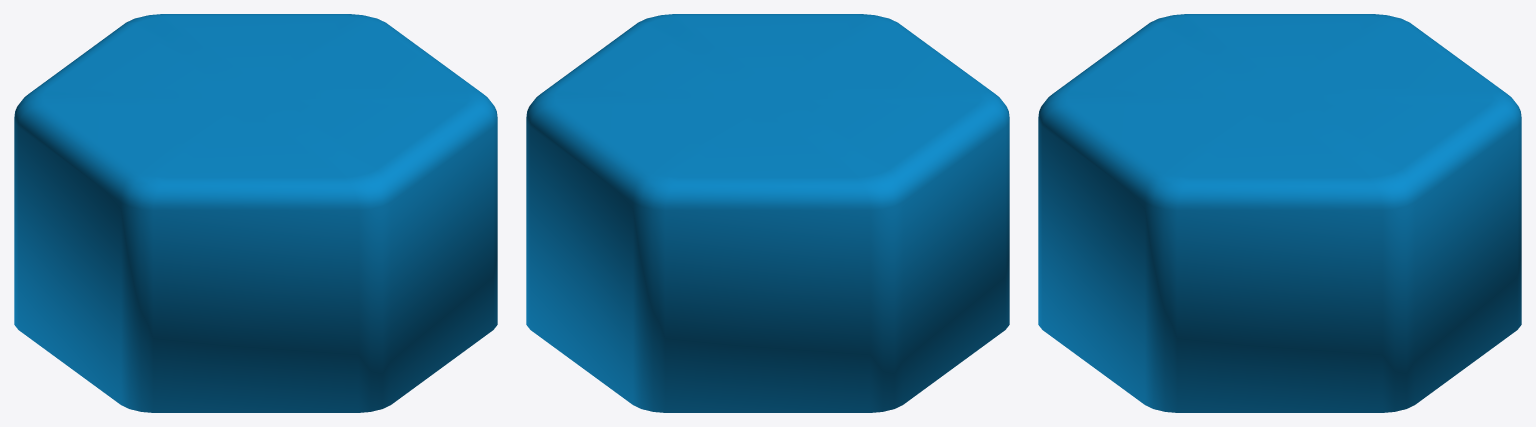
Rendered from Hexagonal .fbx.
3 views of the same model, side by side, from view 1: azimuth 30°, elevation 25°; view 2: azimuth 150°, elevation 25°; view 3: azimuth 270°, elevation 25° (orthographic).
Visible parts, largest first — view 1: Mesh_0.012; view 2: Mesh_0.012; view 3: Mesh_0.012.
Part boxes in pixels (x1,y1,x2,y2): Mesh_0.012: (14,14,497,412); Mesh_0.012: (526,14,1009,412); Mesh_0.012: (1038,14,1521,412).
Size of the model in its own units: 8.66 by 5 by 9.73.
